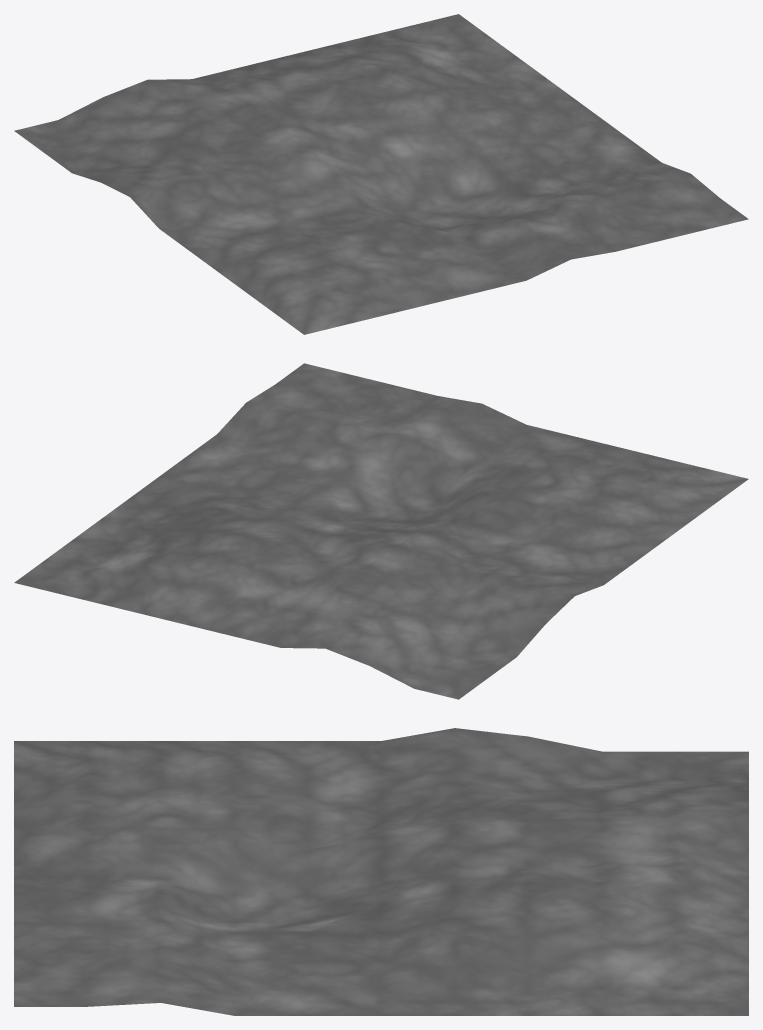
File: SmokeFloorTextured.FBX
3 views of the same model, one above another, from view 1: azimuth 30°, elevation 25°; view 2: azimuth 150°, elevation 25°; view 3: azimuth 270°, elevation 25° (orthographic). The views are drawn at different scales.
Parts seen in each view (by area): view 1: Plane003; view 2: Plane003; view 3: Plane003.
Boxes of the visible parts, <box> form: Plane003: <box>14,14,748,334</box>; Plane003: <box>14,363,748,699</box>; Plane003: <box>14,728,748,1015</box>.
Size of the model in its own units: 3881 by 259 by 4385.
1 material, 1 textured.
